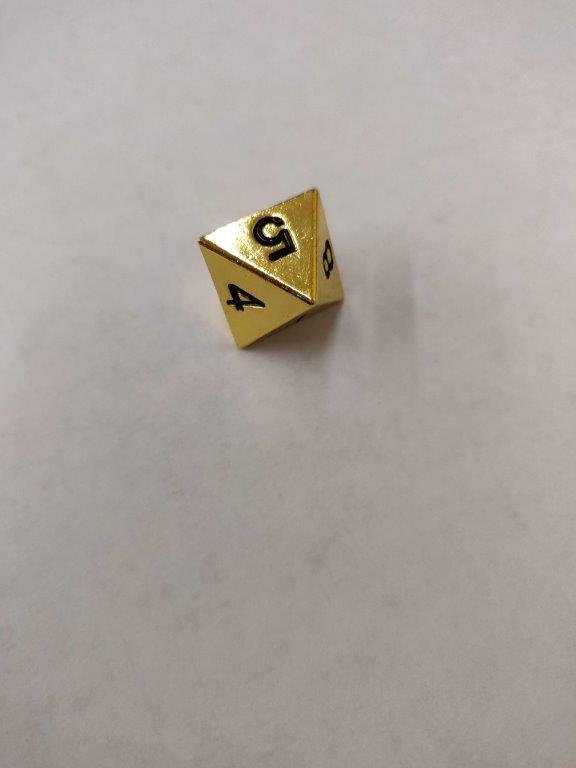d8-5: (197, 188, 343, 352)
